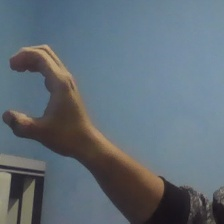C: (2, 40, 87, 161)
